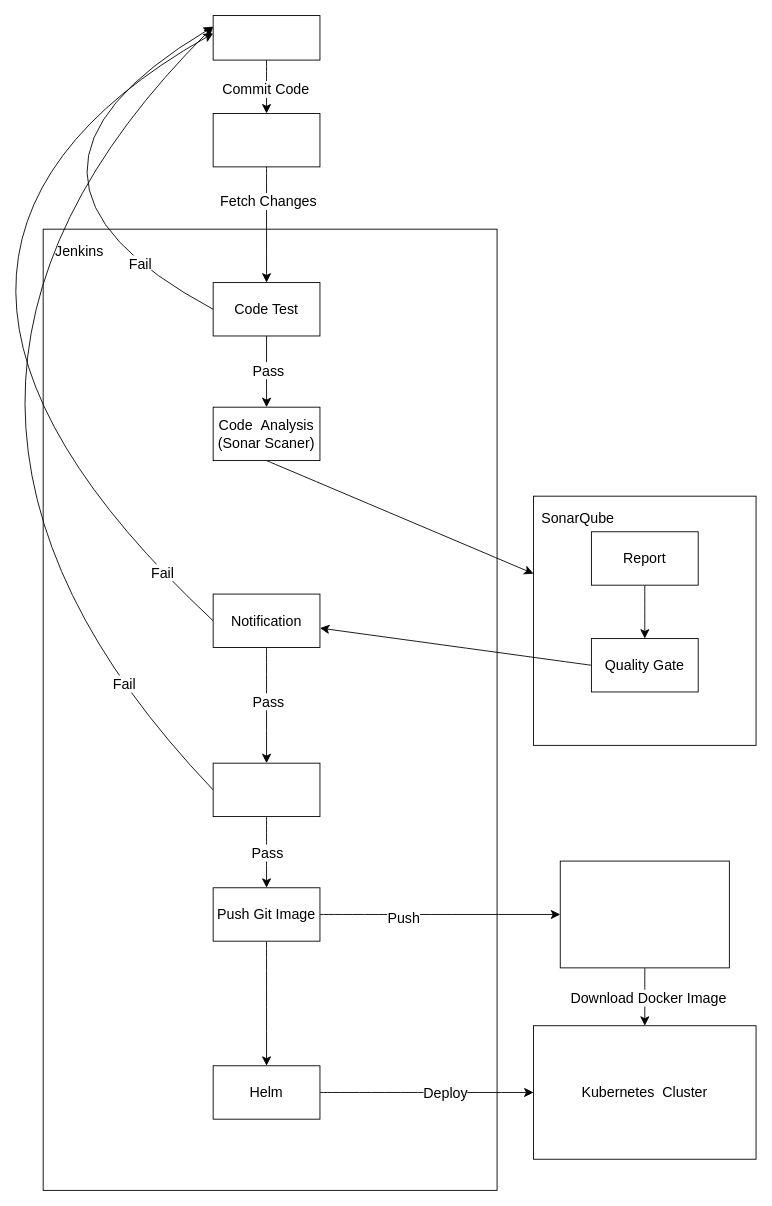
The diagram is 772 pixels wide and 1206 high, and some of its shapes have lost their labels. Here are the shapes that lost their labels. From the top down, the box of each, then its label:
(212, 15, 320, 60): Developer
(212, 113, 320, 167): GitHub
(212, 762, 320, 817): Build Image (Maven & Doker)
(559, 860, 729, 968): Docker Hub
